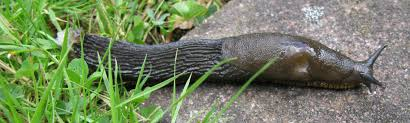slug: (64, 26, 383, 95)
